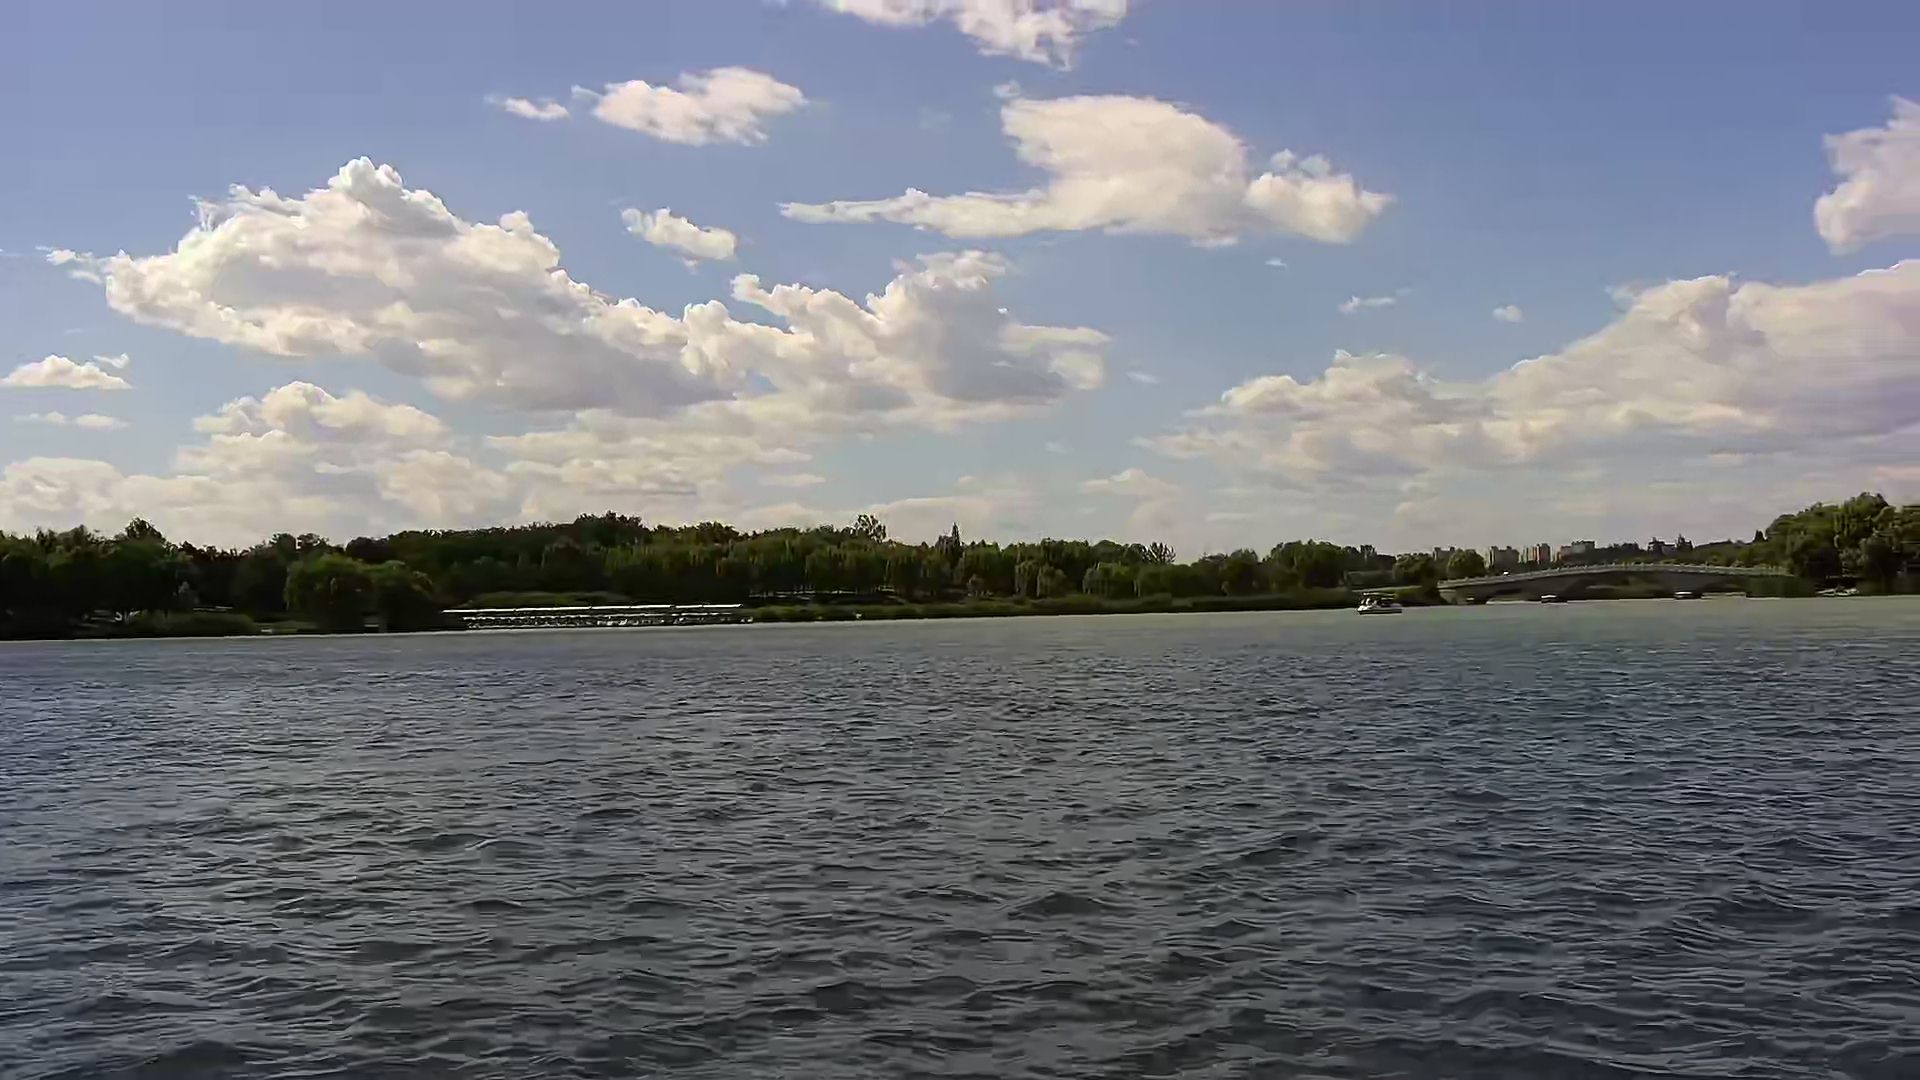boat: (1360, 591, 1400, 615)
bridge: (1437, 564, 1797, 593)
harbor: (440, 597, 740, 626)
